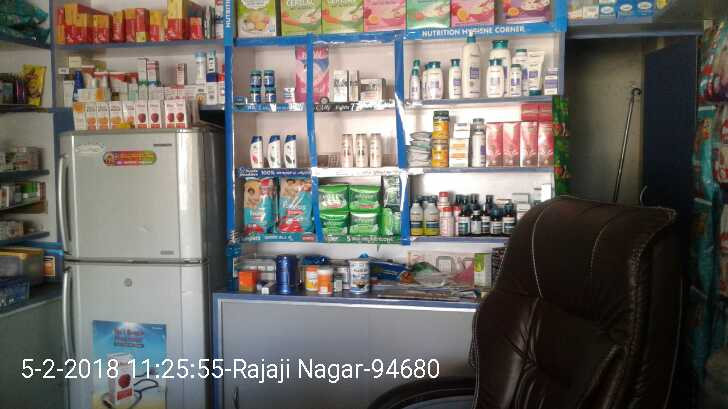beauty: (367, 129, 384, 168), (351, 132, 367, 169), (267, 134, 283, 169), (360, 80, 384, 102), (249, 136, 264, 170), (333, 71, 348, 103), (340, 132, 353, 166), (285, 134, 297, 167), (348, 71, 360, 101)
pharmacy: (277, 175, 313, 239), (241, 179, 275, 241), (317, 182, 350, 211), (347, 184, 377, 210), (319, 214, 347, 240), (348, 213, 376, 236), (281, 87, 297, 102), (248, 72, 261, 90), (262, 69, 274, 88), (264, 90, 277, 105), (249, 90, 261, 104)
